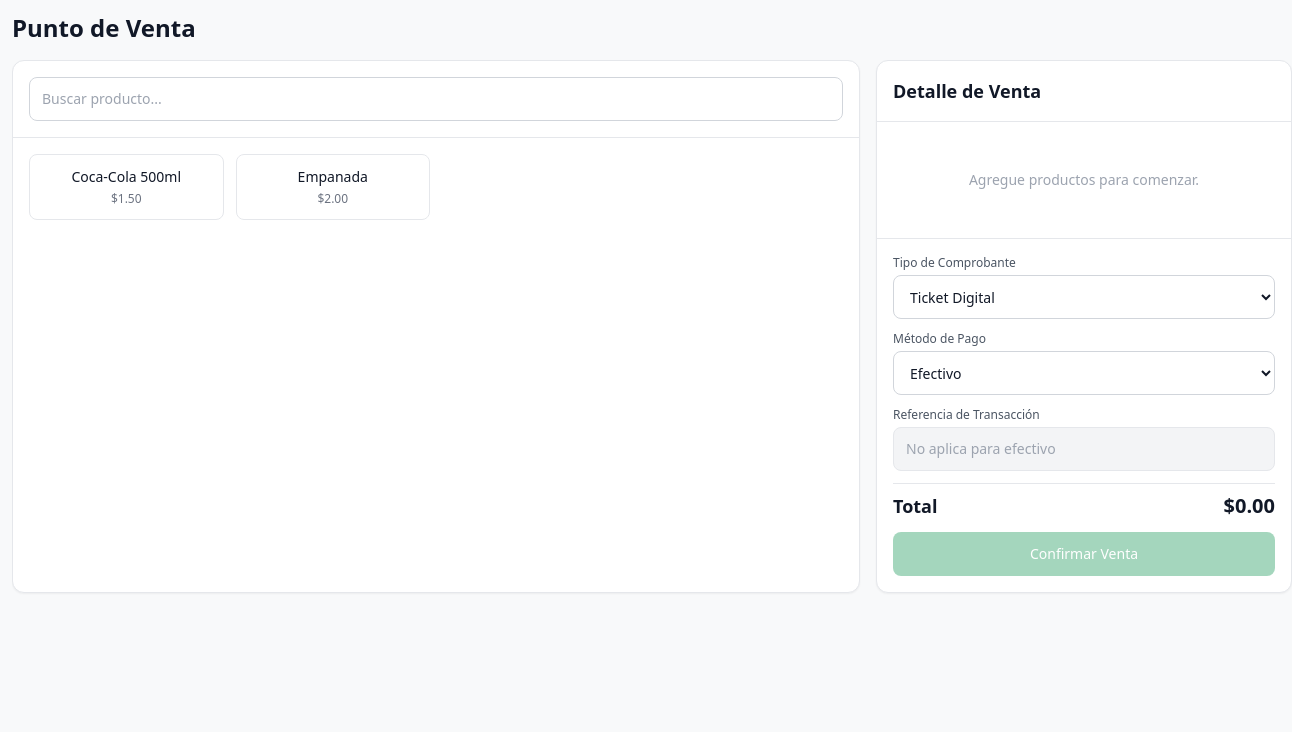
Test: PosNormalPage — Precio Negociado UI & Payload › UI condicionality (Req 5.1, 5.2, 5.3) › renders editable price input when toggle=true and barEscolar=false
Expected: the text "Coca-Cola 500ml" is shown, top-left (72, 167), bottom-right (181, 186)
Step 1. Click the button "Coca-Cola 500ml $1.50" → (126, 187), box top-left (29, 154), bottom-right (224, 220)
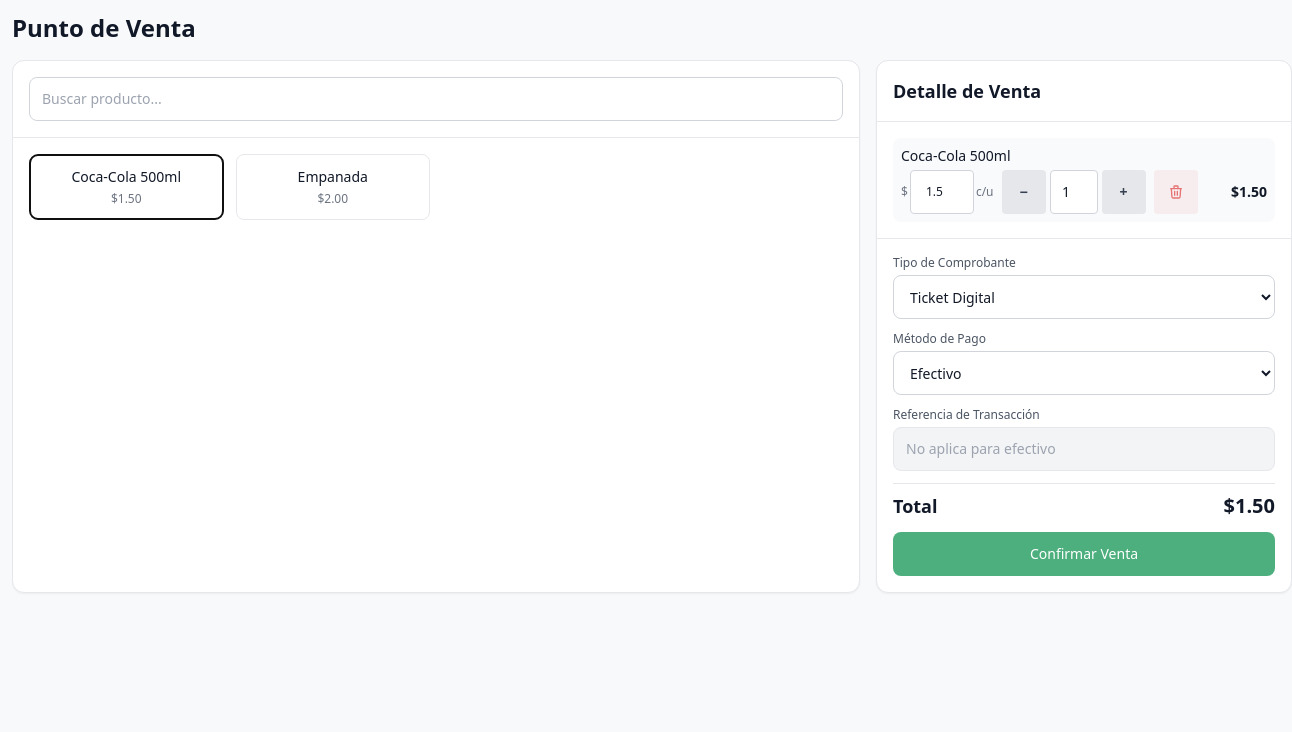
Result: the number field named "Precio unitario de Coca-Cola 500ml" is enabled at top-left (910, 170), bottom-right (974, 214)
